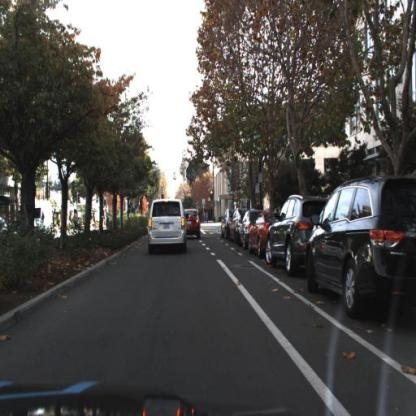car: (306, 169, 416, 322), (266, 193, 319, 278), (144, 190, 195, 261), (247, 211, 274, 257), (27, 198, 56, 239), (179, 206, 202, 240), (238, 205, 254, 251), (222, 203, 236, 242), (229, 207, 243, 246)
trafficLight-Red: (210, 189, 216, 203), (161, 192, 166, 204)
